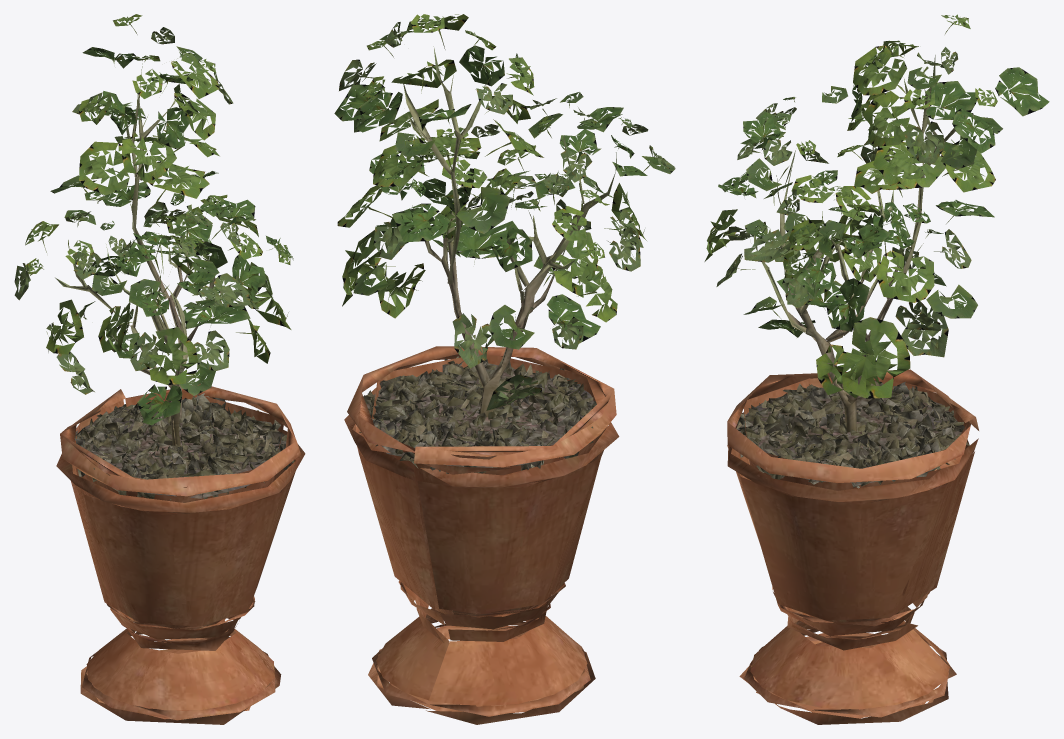
The model's file is potted_plant_01.glb.
3 renders of one model, left to right at view 1: azimuth 30°, elevation 25°; view 2: azimuth 150°, elevation 25°; view 3: azimuth 270°, elevation 25°, orthographic. The views are drawn at different scales.
Parts seen in each view (by area): view 1: potted_plant_01_stem, potted_plant_01_leaves; view 2: potted_plant_01_stem, potted_plant_01_leaves; view 3: potted_plant_01_stem, potted_plant_01_leaves.
Boxes of the visible parts, bbox=[...] form: potted_plant_01_stem: bbox=[55, 60, 305, 724]; potted_plant_01_leaves: bbox=[14, 14, 293, 425]; potted_plant_01_stem: bbox=[344, 46, 619, 724]; potted_plant_01_leaves: bbox=[334, 14, 675, 410]; potted_plant_01_stem: bbox=[727, 55, 978, 724]; potted_plant_01_leaves: bbox=[704, 14, 1049, 398].
Size of the model in its own units: 0.587 by 1.33 by 0.6305.
Materials: 2 (2 with a texture image).
